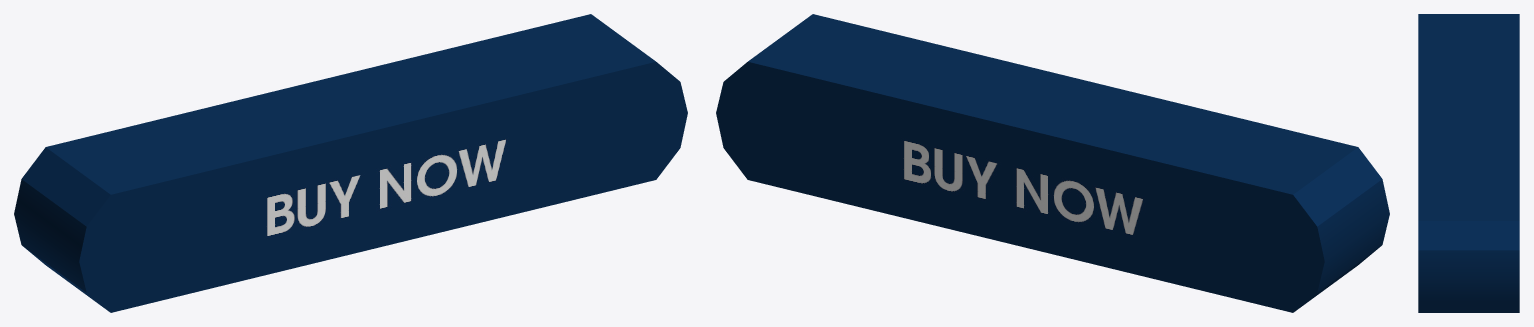
Rendered from link-button-buy-blue.glb.
The picture shows the model from 3 angles, left to right: view 1: azimuth 30°, elevation 25°; view 2: azimuth 150°, elevation 25°; view 3: azimuth 270°, elevation 25°; orthographic projection. The views are drawn at different scales.
Parts seen in each view (by area): view 1: Cube; view 2: Cube; view 3: Cube.
Boxes of the visible parts, x1,y1,x2,y2 form: Cube: [14, 14, 687, 312]; Cube: [716, 14, 1389, 312]; Cube: [1418, 14, 1519, 312].
Size of the model in its own units: 2.62 by 0.4867 by 0.4867.
Materials: 1 (1 with a texture image).
